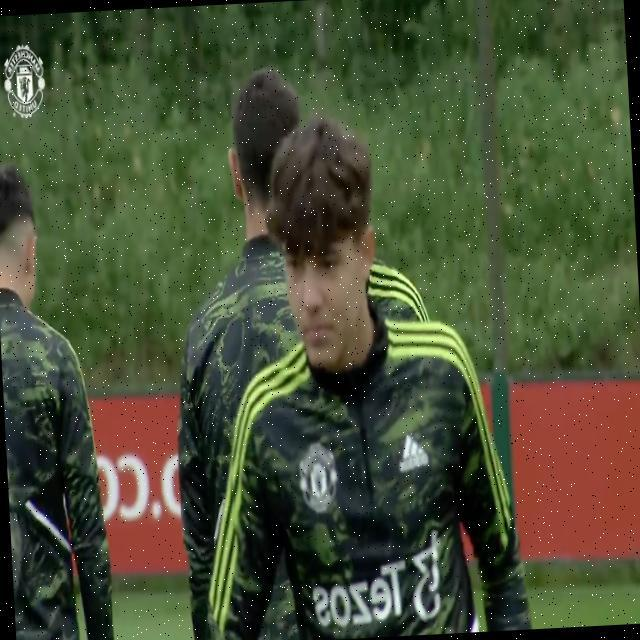Adidas: (396, 430, 429, 478)
